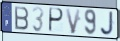3: (31, 6, 47, 33)
9: (83, 9, 97, 37)
B: (14, 6, 30, 31)
J: (99, 11, 115, 37)
P: (48, 7, 65, 34)
V: (64, 8, 82, 35)
